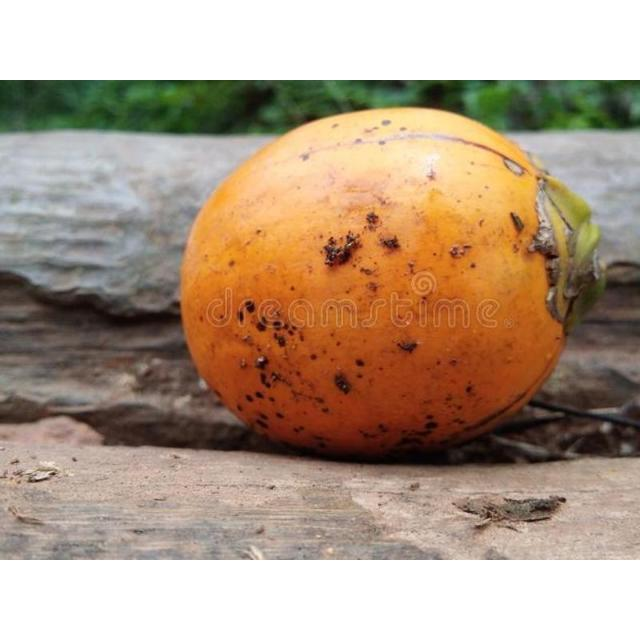good: (178, 108, 605, 463)
